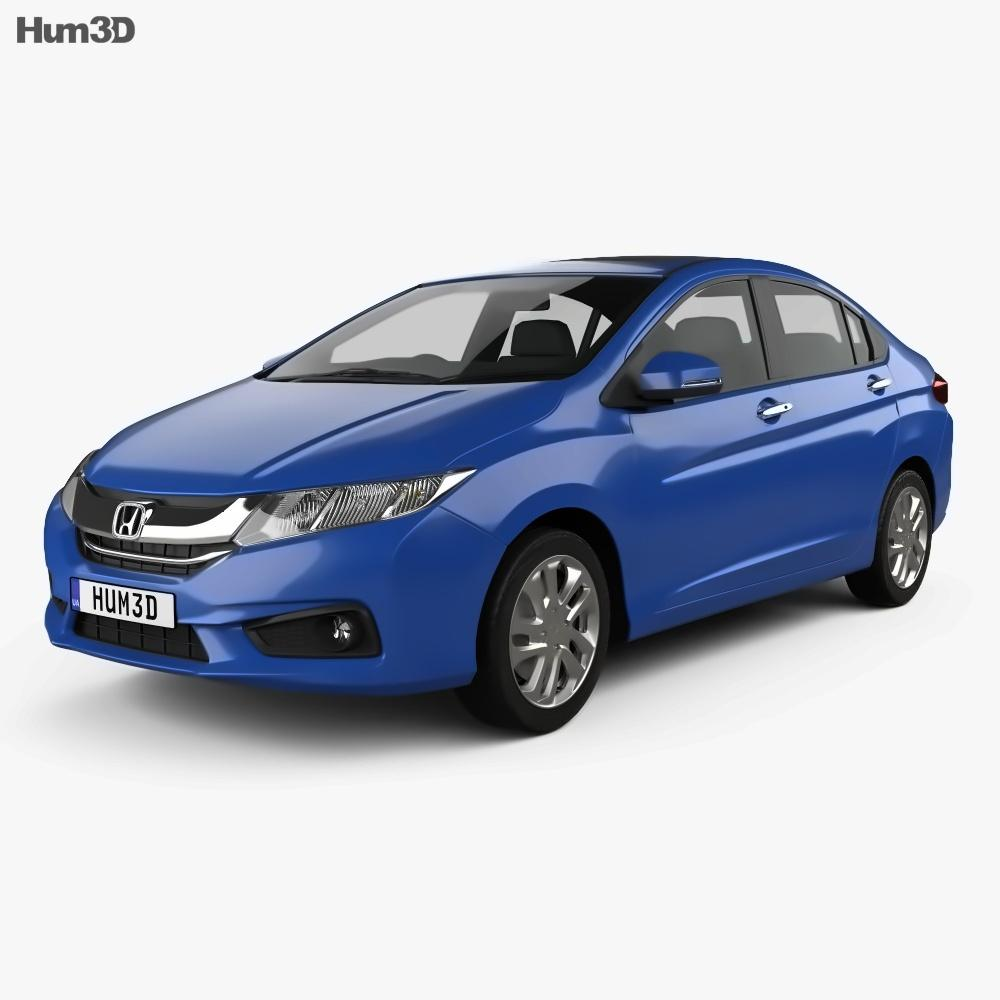Car hood: (89, 377, 572, 500)
Fender - -F-L-: (435, 377, 639, 667)
Fender - -R-L-: (869, 315, 956, 538)
Front bumper: (39, 499, 507, 704)
Headlight - -L-: (232, 469, 477, 550)
Passenger-s door - -F-L-: (610, 227, 792, 639)
Passenger-s door - -R-L-: (749, 242, 907, 627)
Side bumper - -L-: (611, 530, 882, 682)
Side mirror - -L-: (609, 349, 724, 415)
